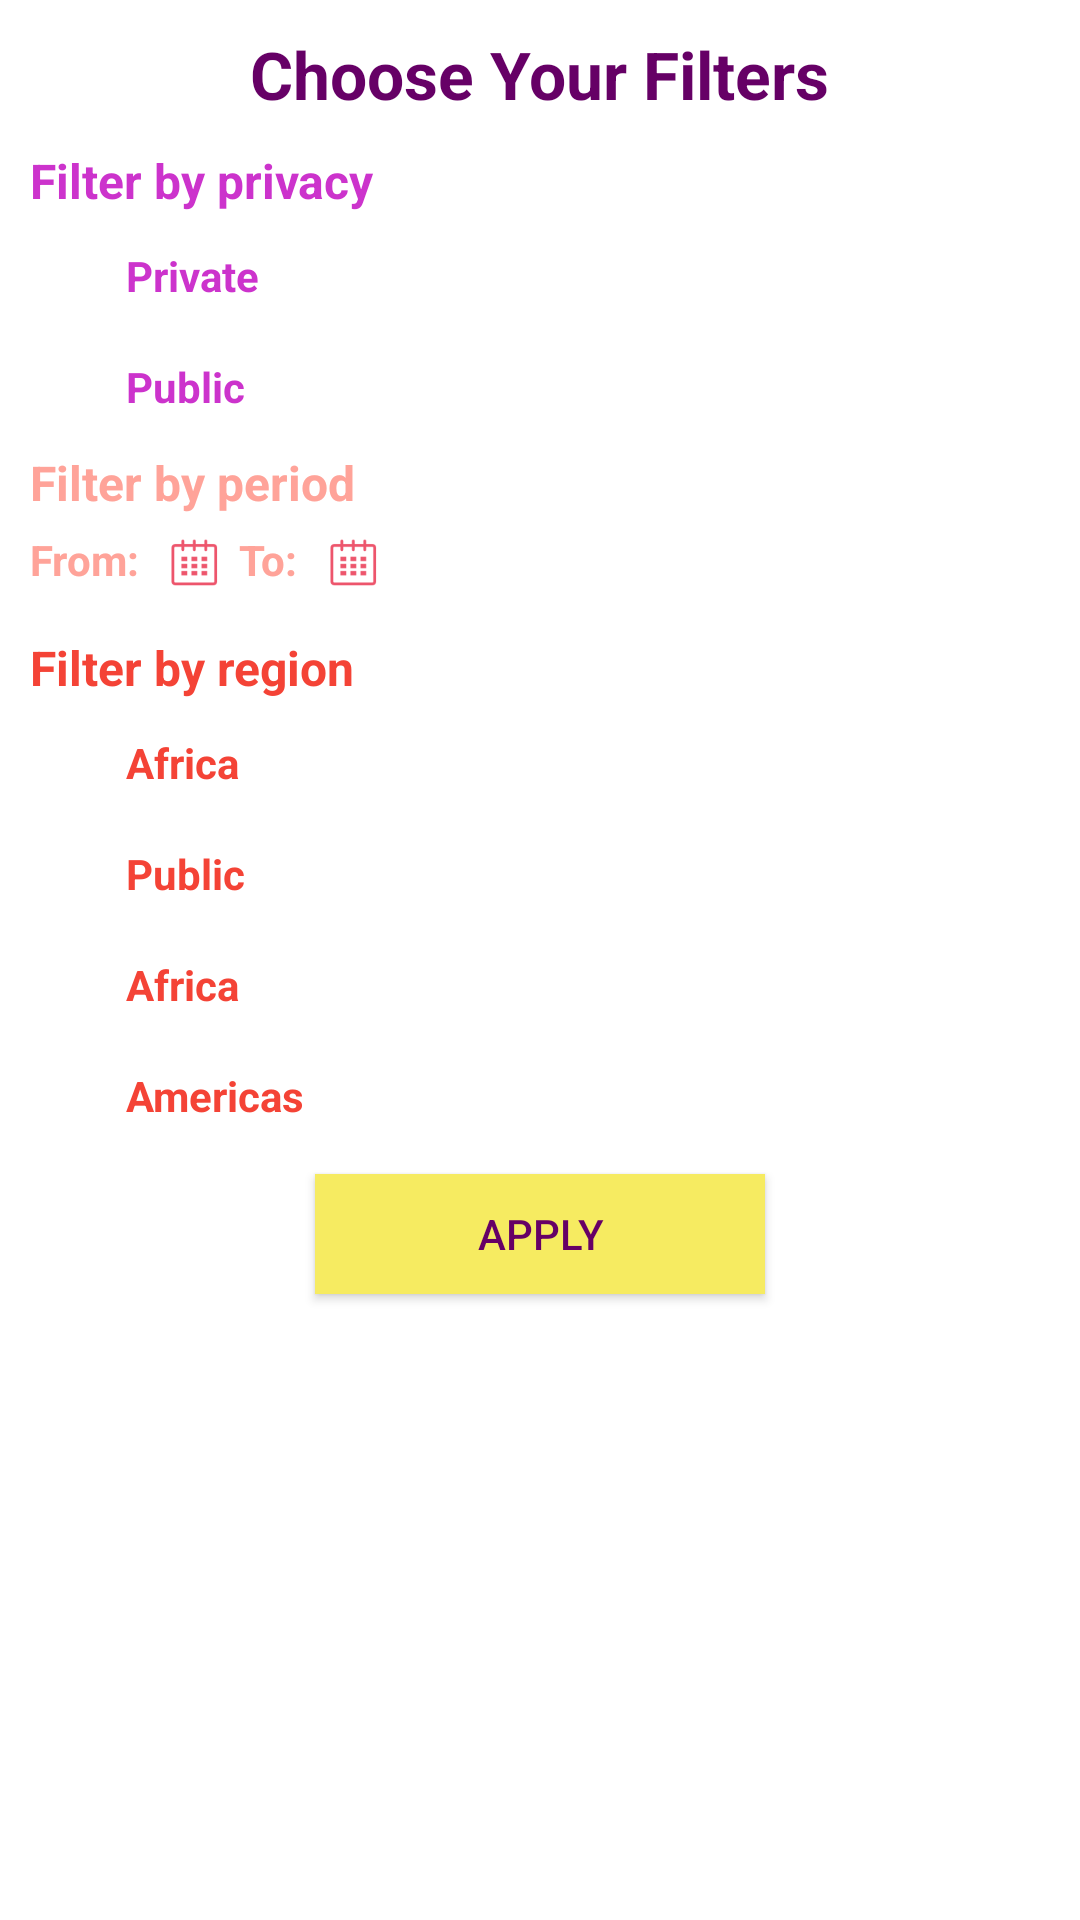

Locate icon controls on the screen. Image size 1080px x 1920px, boxes as (x1, y1, x2, y2).
calendar: (171, 539, 217, 586), (330, 539, 376, 586)
